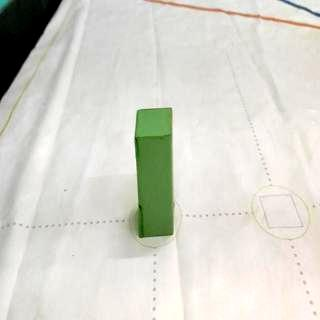greenbox: (134, 106, 174, 237)
